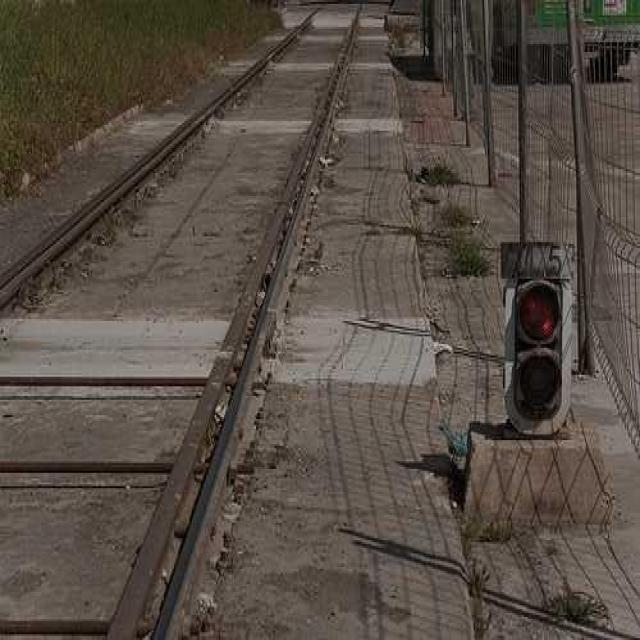Traffic Light -Red-: (504, 282, 566, 430)
